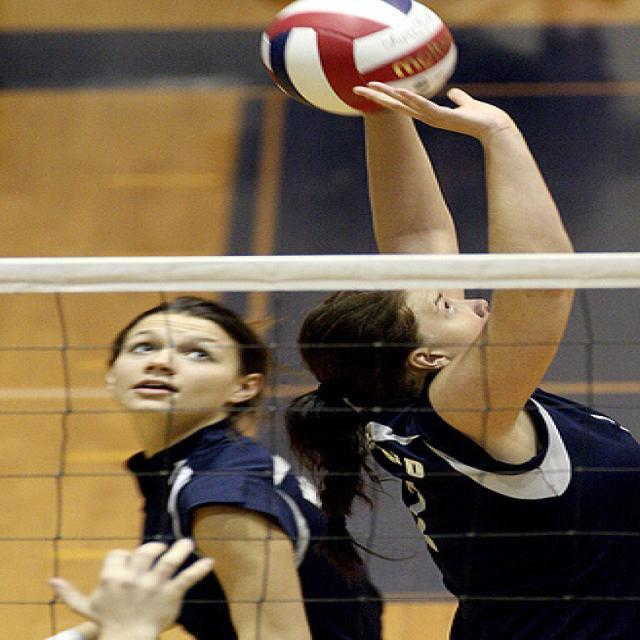volleyball: (260, 1, 454, 116)
